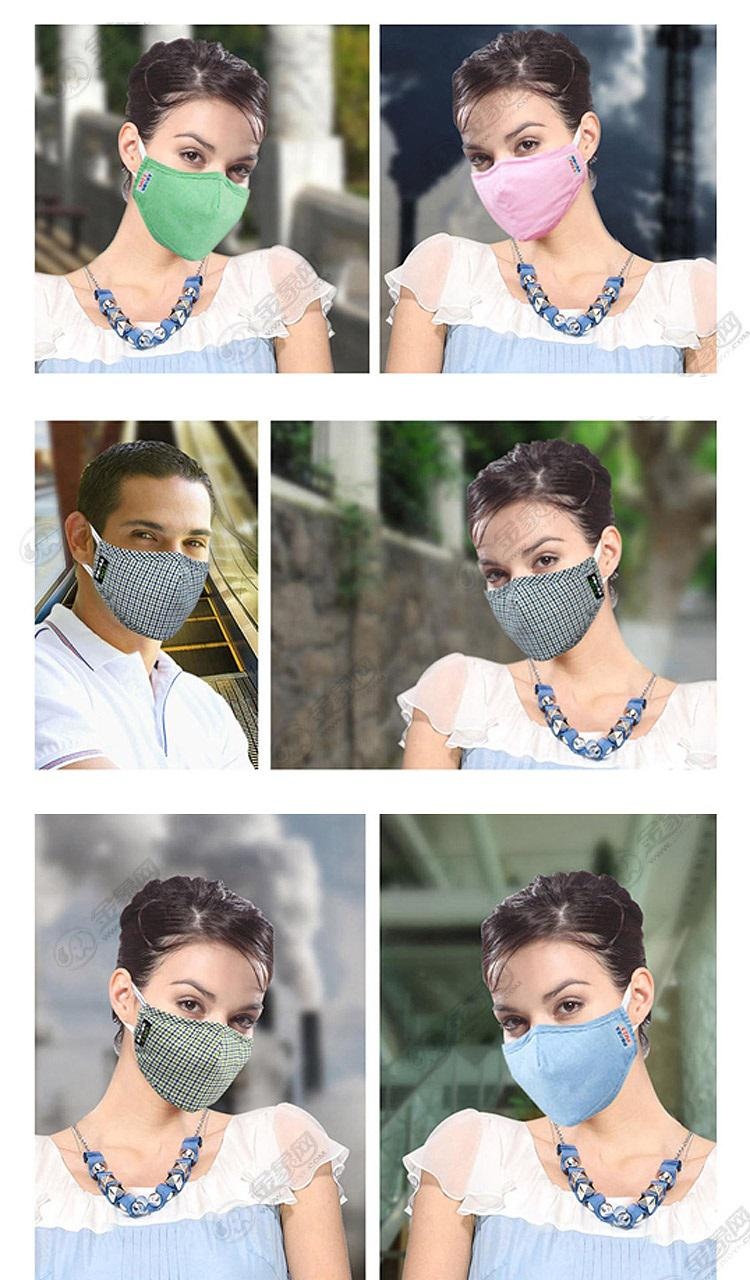OK: (491, 978, 636, 1123), (133, 976, 263, 1106), (474, 532, 602, 660), (140, 122, 259, 254), (467, 118, 586, 237), (105, 516, 223, 634)
